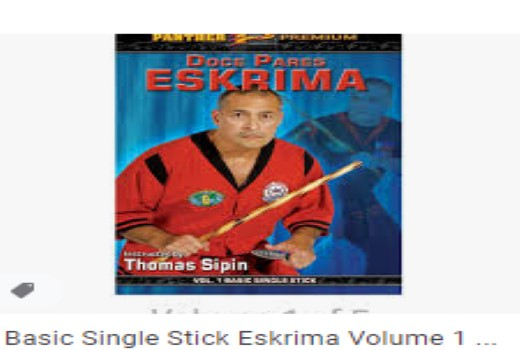baston_e: (201, 159, 354, 245)
baston_v: (353, 152, 366, 171)
